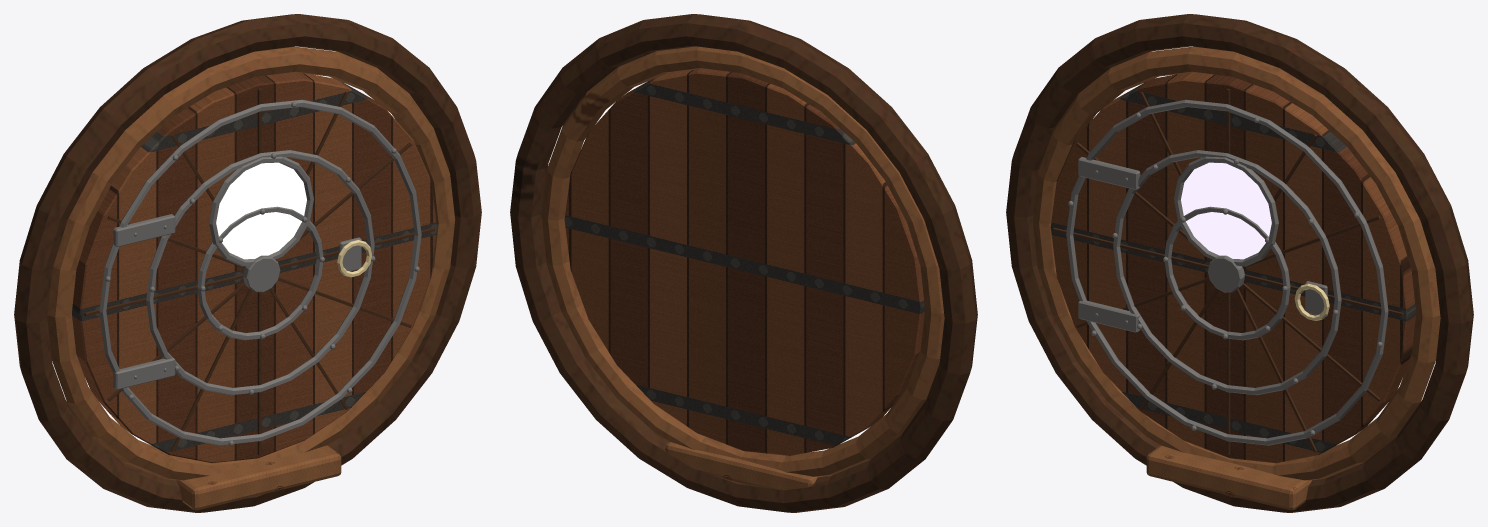
Rendered from cabin_round_door.glb.
The picture shows the model from 3 angles, left to right: view 1: azimuth 30°, elevation 25°; view 2: azimuth 150°, elevation 25°; view 3: azimuth 330°, elevation 25°; orthographic projection.
Parts seen in each view (by area): view 1: door_disc, frame_outer, frame_inner, strap_2, portal_glass, sill, strap_1, strap_0, window_ring, hinge_plate_1, hinge_plate_0, boss (+5 smaller); view 2: door_disc, frame_outer, frame_inner, sill; view 3: door_disc, frame_outer, frame_inner, strap_2, portal_glass, strap_1, sill, strap_0, window_ring, hinge_plate_1, hinge_plate_0, boss (+6 smaller).
Part boxes in pixels (<box>): door_disc: <box>72,72,437,463</box>; frame_outer: <box>14,14,481,512</box>; frame_inner: <box>47,46,455,480</box>; strap_2: <box>99,99,421,445</box>; portal_glass: <box>216,162,306,259</box>; sill: <box>176,445,341,510</box>; strap_1: <box>146,150,374,395</box>; strap_0: <box>197,206,323,340</box>; window_ring: <box>209,156,313,266</box>; hinge_plate_1: <box>113,214,175,247</box>; hinge_plate_0: <box>113,357,175,389</box>; boss: <box>243,255,280,292</box>; door_disc: <box>564,68,924,455</box>; frame_outer: <box>510,14,977,512</box>; frame_inner: <box>541,46,944,476</box>; sill: <box>665,441,831,490</box>; door_disc: <box>1050,72,1415,463</box>; frame_outer: <box>1006,14,1473,512</box>; frame_inner: <box>1032,46,1440,480</box>; strap_2: <box>1066,99,1388,445</box>; portal_glass: <box>1181,162,1271,259</box>; strap_1: <box>1113,150,1341,395</box>; sill: <box>1146,445,1311,510</box>; strap_0: <box>1164,206,1290,340</box>; window_ring: <box>1174,156,1278,266</box>; hinge_plate_1: <box>1078,157,1140,189</box>; hinge_plate_0: <box>1078,300,1140,332</box>; boss: <box>1207,255,1244,292</box>.
Size of the model in its own units: 2.18 by 2.18 by 0.24.
7 materials, 4 textured.
